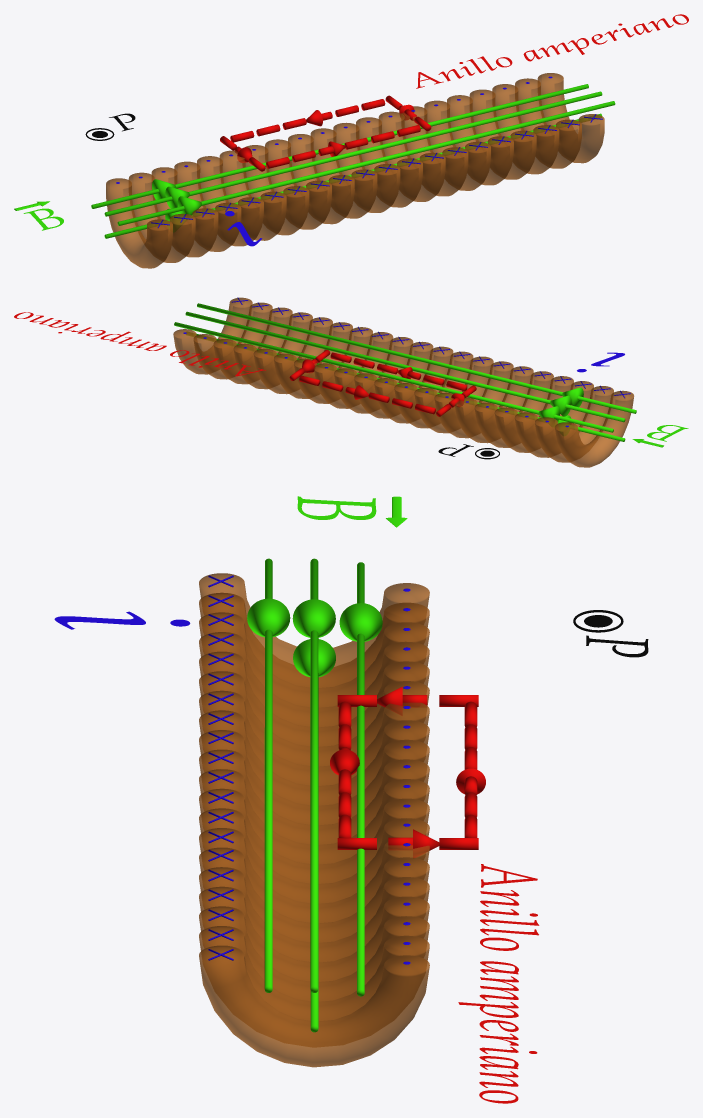
The model's file is Solenoide corte longitudinal.dae.
3 views of the same model, one above another, from view 1: azimuth 30°, elevation 25°; view 2: azimuth 150°, elevation 25°; view 3: azimuth 270°, elevation 25° (orthographic). The views are drawn at different scales.
Parts seen in each view (by area): view 1: BezierCircle; view 2: BezierCircle; view 3: BezierCircle.
Part boxes in pixels (<box>): BezierCircle: <box>14,14,688,268</box>; BezierCircle: <box>14,297,688,467</box>; BezierCircle: <box>54,496,648,1103</box>.
Bounding box in the file's own units: 15.51 × 6.42 × 1.45.
